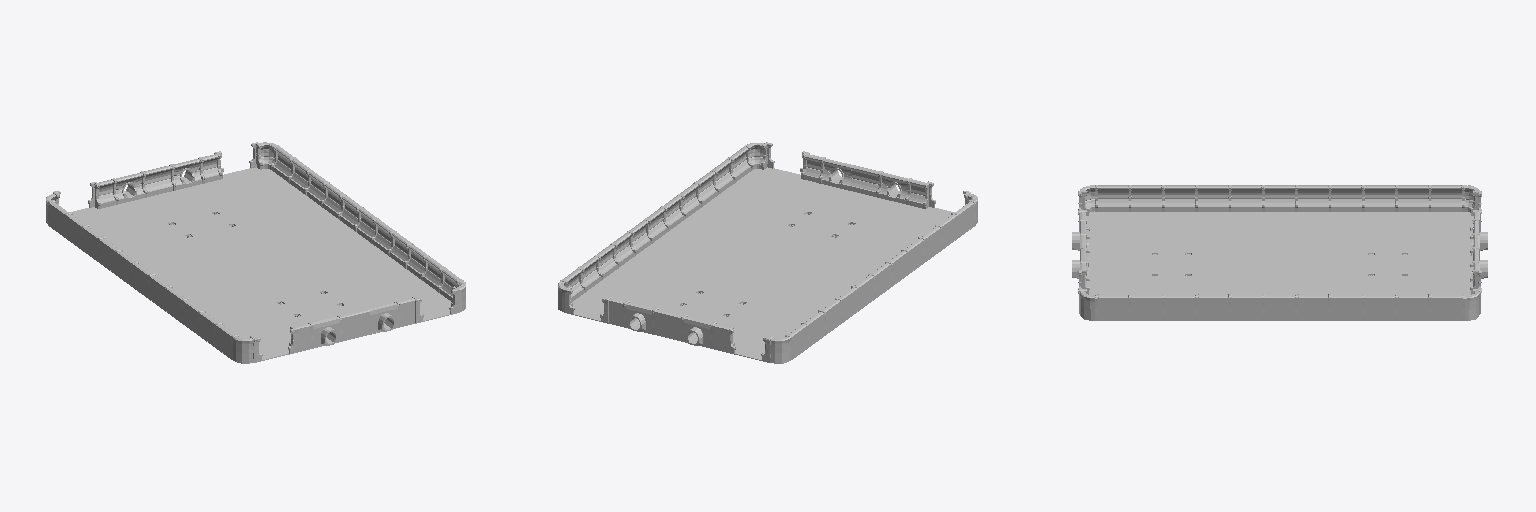
Rendered from DungeonRoom_09.obj.
3 views of the same model, side by side, from view 1: azimuth 30°, elevation 25°; view 2: azimuth 150°, elevation 25°; view 3: azimuth 270°, elevation 25° (orthographic).
Visible parts, largest first — view 1: DungeonRoom_09; view 2: DungeonRoom_09; view 3: DungeonRoom_09.
Part boxes in pixels (x1,y1,x2,y2): DungeonRoom_09: (46,142,465,363); DungeonRoom_09: (558,142,977,363); DungeonRoom_09: (1072,185,1487,320).
Bounding box in the file's own units: 64.17 × 8.23 × 100.